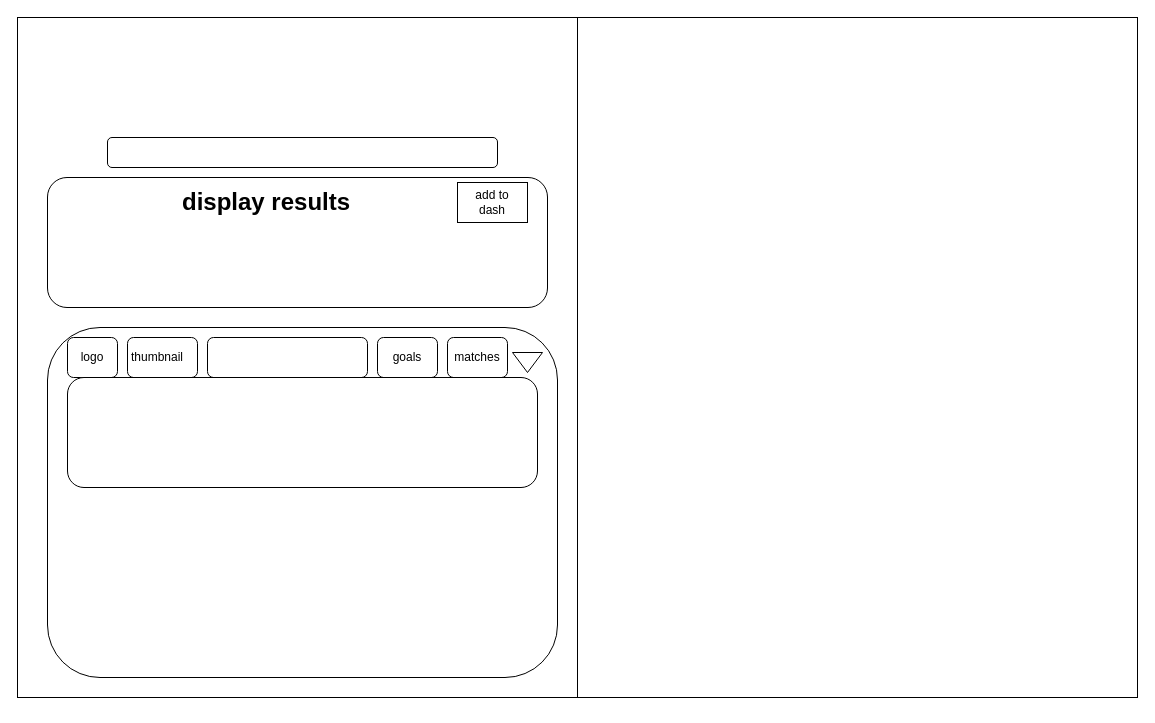
Some shapes in this 1155 by 723 pixel diagram are drawn without their labels. Here are the shapes that lost their labels. From the top down, the centre of each, then its label:
At (x=302, y=152): "search".
At (x=287, y=357): "name".
At (x=857, y=357): "login/reg".
